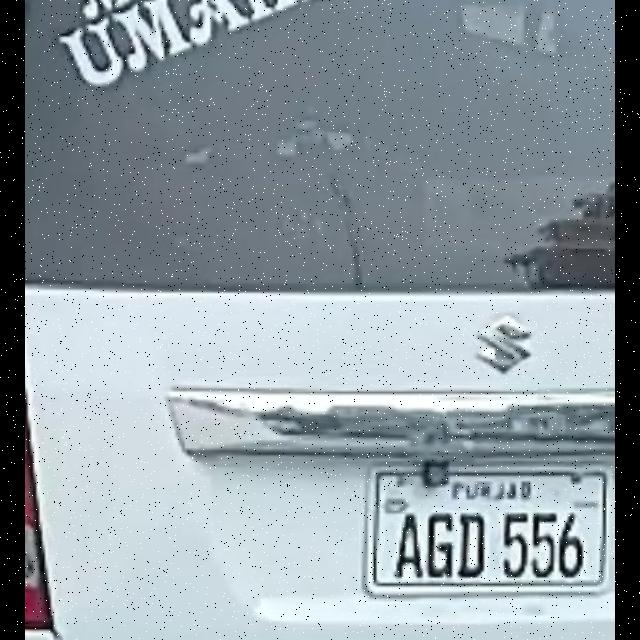5: (532, 506, 562, 584), (503, 506, 532, 584)
6: (560, 506, 590, 584)
A: (390, 506, 420, 584)
D: (456, 506, 486, 584)
G: (426, 506, 456, 584)
